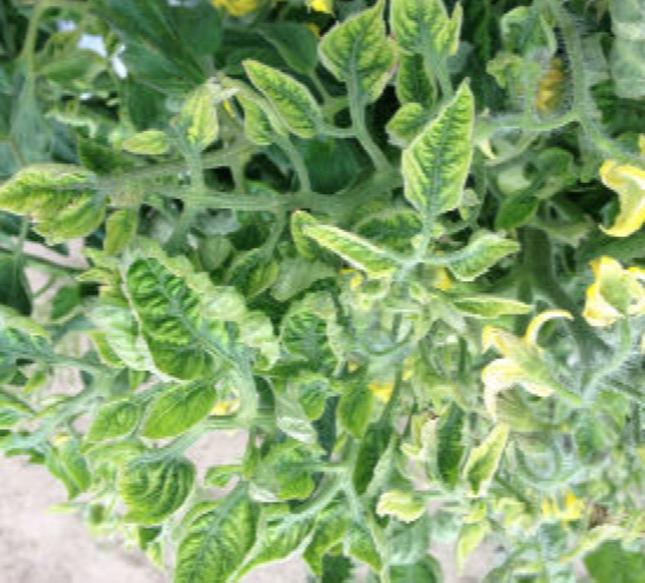Tomato leaf yellow virus: (106, 224, 287, 388), (390, 82, 494, 225), (0, 139, 118, 246), (258, 286, 369, 376), (120, 358, 232, 447), (147, 496, 260, 583), (382, 0, 501, 75), (236, 52, 330, 142), (318, 4, 403, 100), (474, 323, 588, 390)
